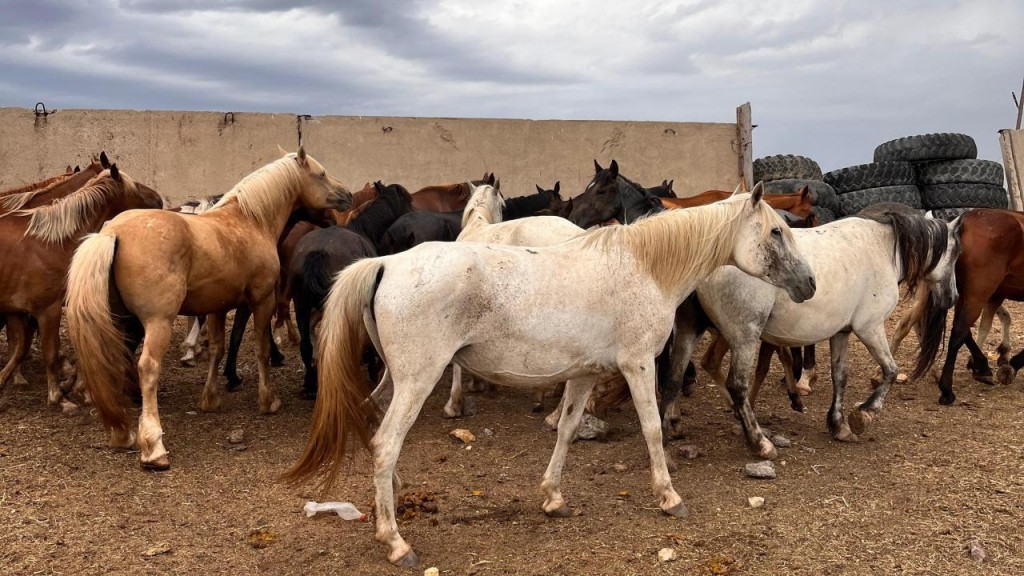horse: (315, 181, 817, 499), (58, 145, 369, 485)
